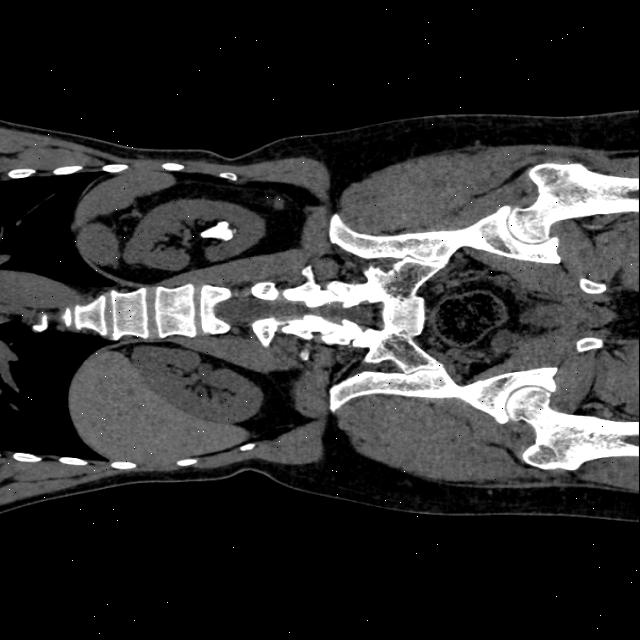kidneystone: (200, 220, 234, 240)
